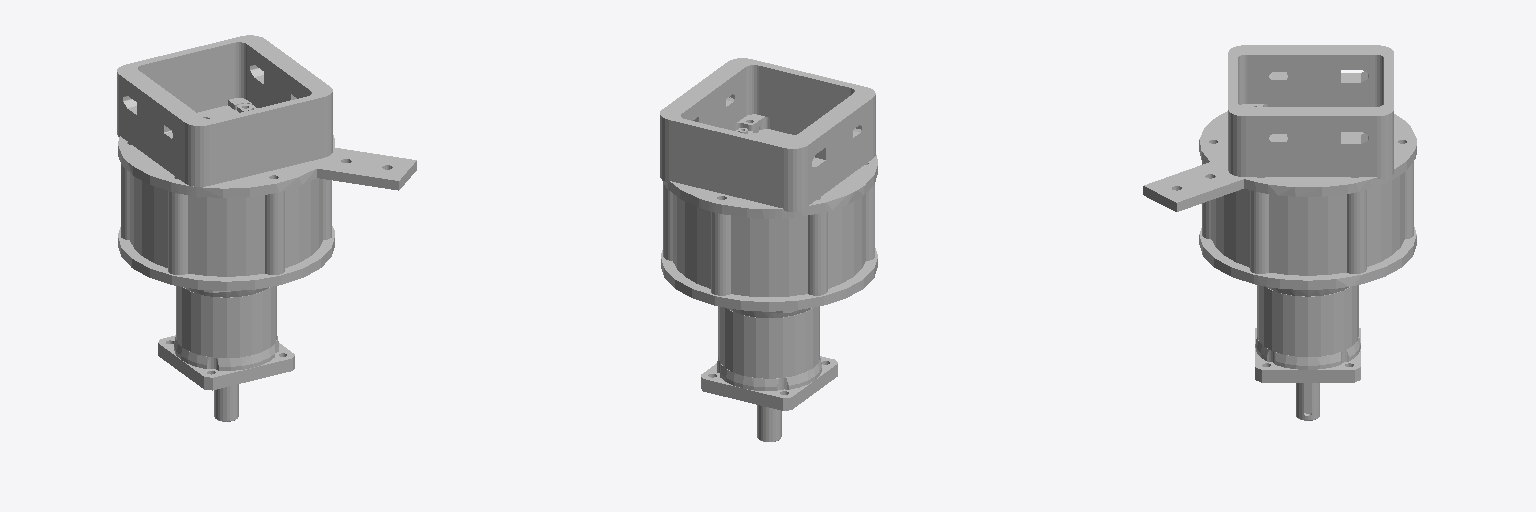
Rendered from drivetrainfrontleftcomposite.obj.
The picture shows the model from 3 angles: view 1: azimuth 30°, elevation 25°; view 2: azimuth 150°, elevation 25°; view 3: azimuth 270°, elevation 25°; orthographic projection.
Parts seen in each view (by area): view 1: obj_[number redacted]; view 2: obj_[number redacted]; view 3: obj_[number redacted].
Part boxes in pixels (left/top/right/bottom): obj_[number redacted]: left=117, top=35, right=416, bottom=421; obj_[number redacted]: left=660, top=58, right=877, bottom=441; obj_[number redacted]: left=1143, top=45, right=1416, bottom=420.
Bounding box in the file's own units: 0.1443 × 0.2108 × 0.156.